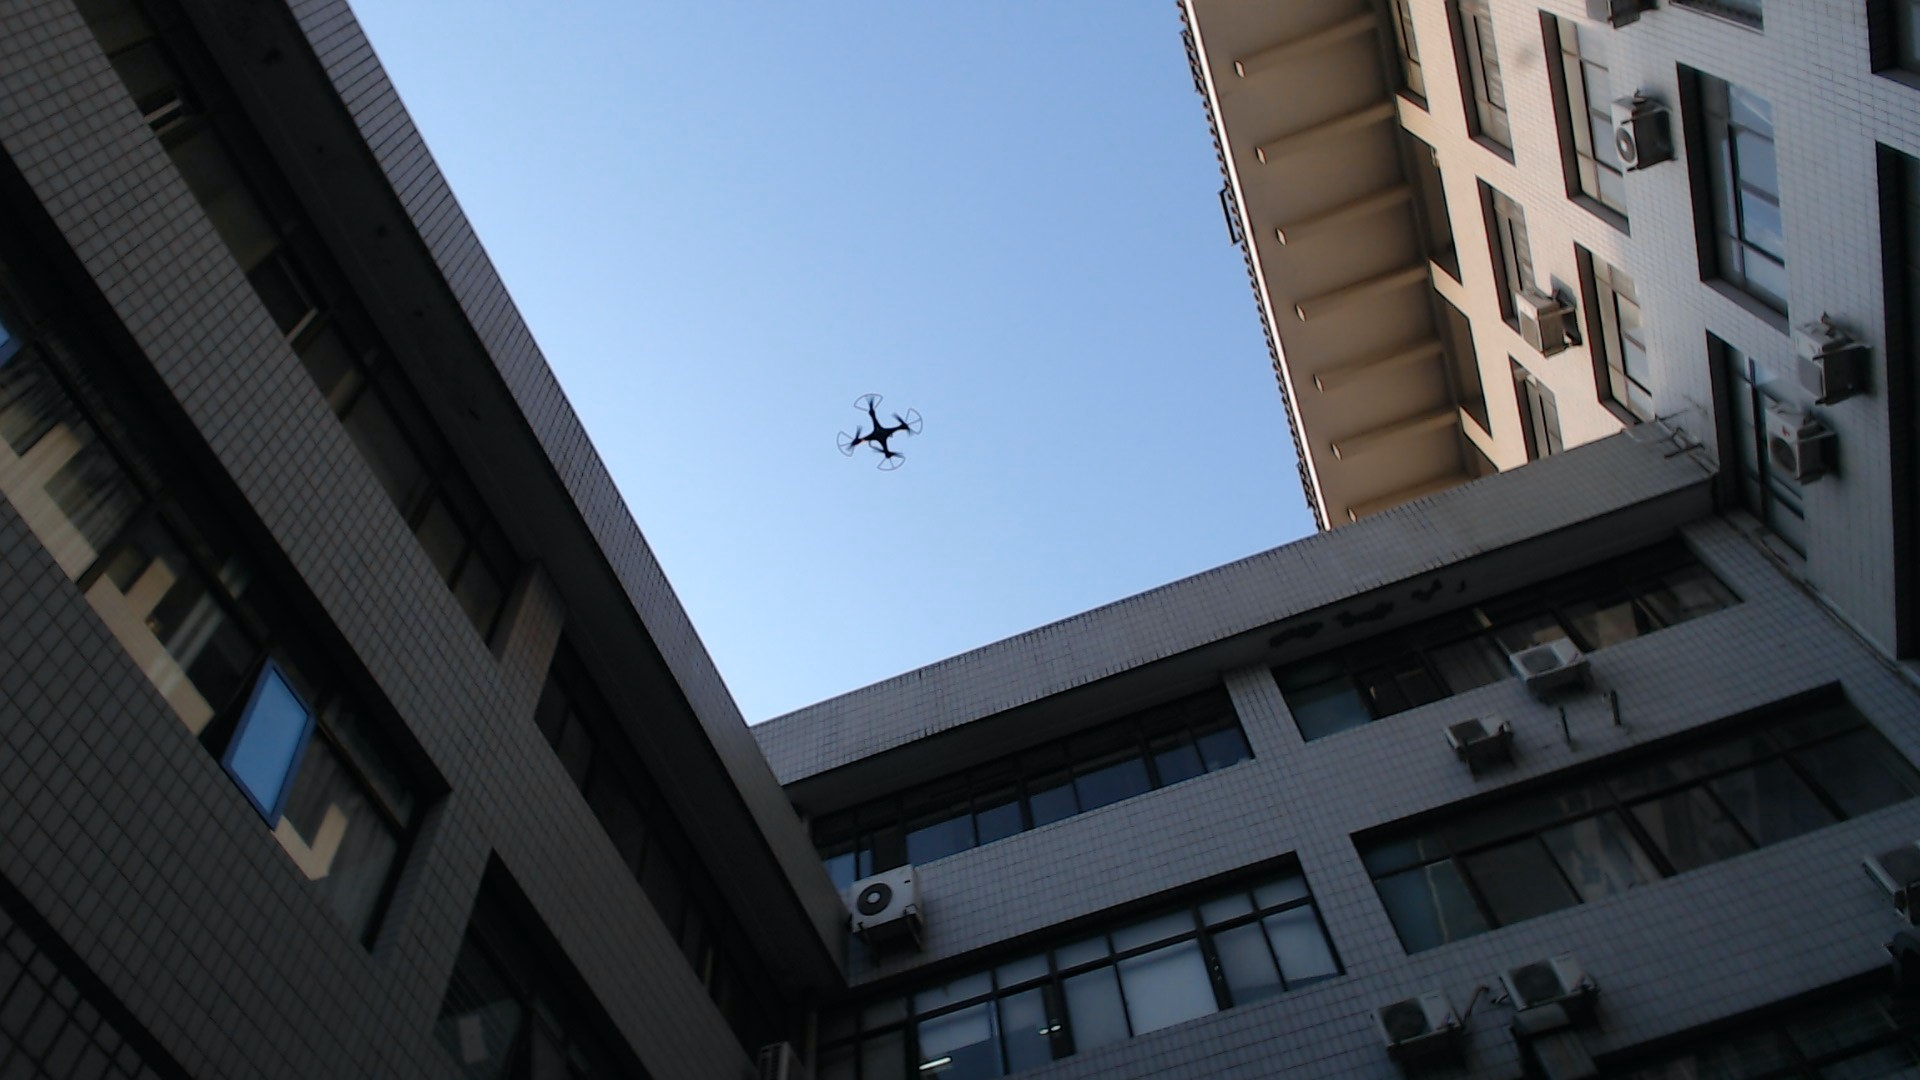drone: (825, 378, 940, 483)
